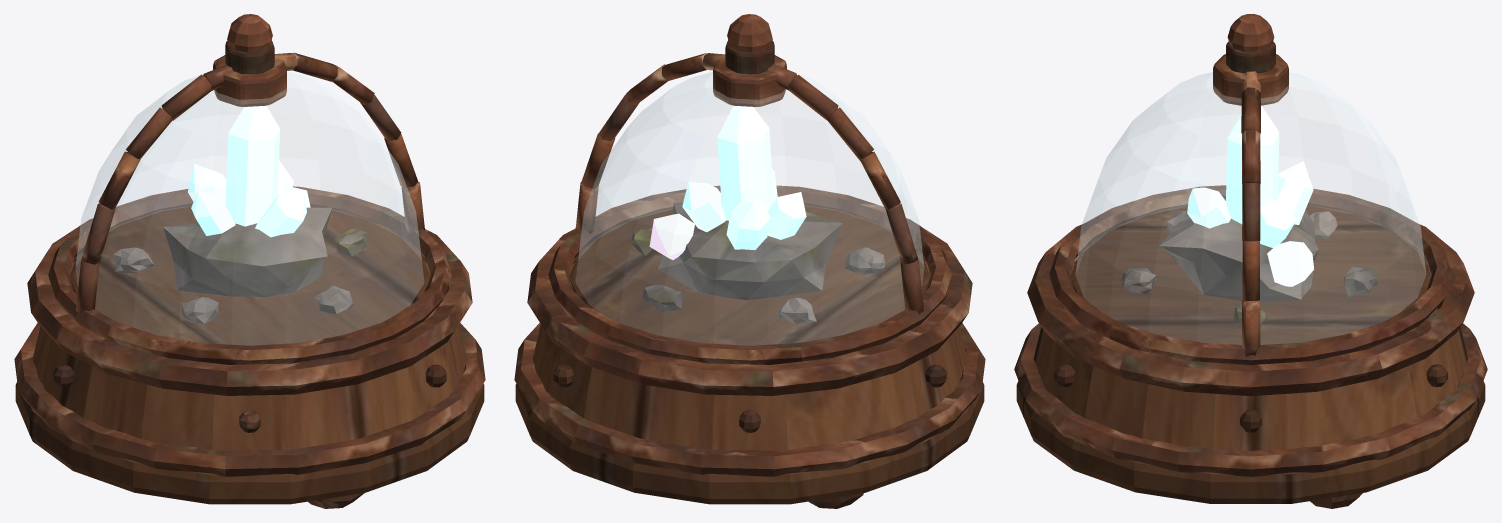
The model's file is crystal_globe.glb.
3 views of the same model, side by side, from view 1: azimuth 30°, elevation 25°; view 2: azimuth 150°, elevation 25°; view 3: azimuth 270°, elevation 25° (orthographic).
Visible parts, largest first — view 1: model; view 2: model; view 3: model.
Boxes of the visible parts, x1,y1,x2,y2 form: model: [14, 14, 485, 508]; model: [514, 14, 985, 508]; model: [1014, 14, 1487, 508].
Bounding box in the file's own units: 0.364 × 0.3607 × 0.364.
11 materials, 8 textured.
